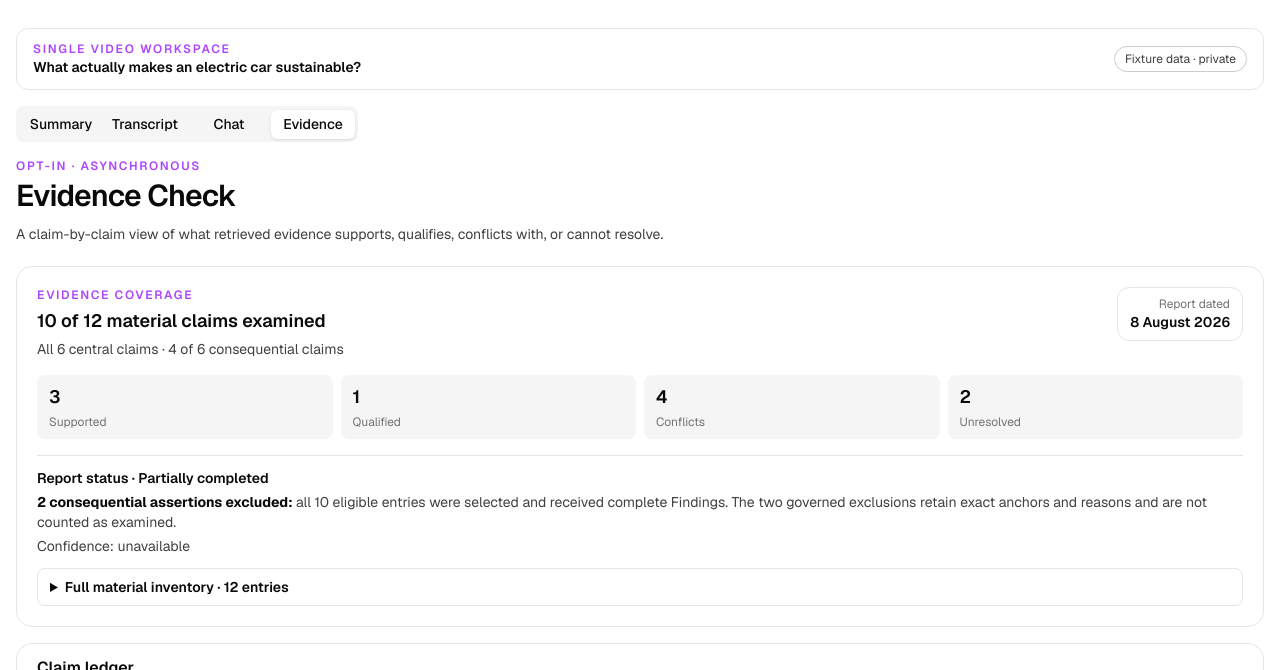
it: EvidenceWorkspacePrototype › reconciles every Finding and governed exclusion to the 12-entry inventory
What coordinates should you click on to do the following:
click the heading "Full material inventory · 12 entries"
I would click on:
 (177, 587)
Its box is [65,578,289,596].
(page scrolled)
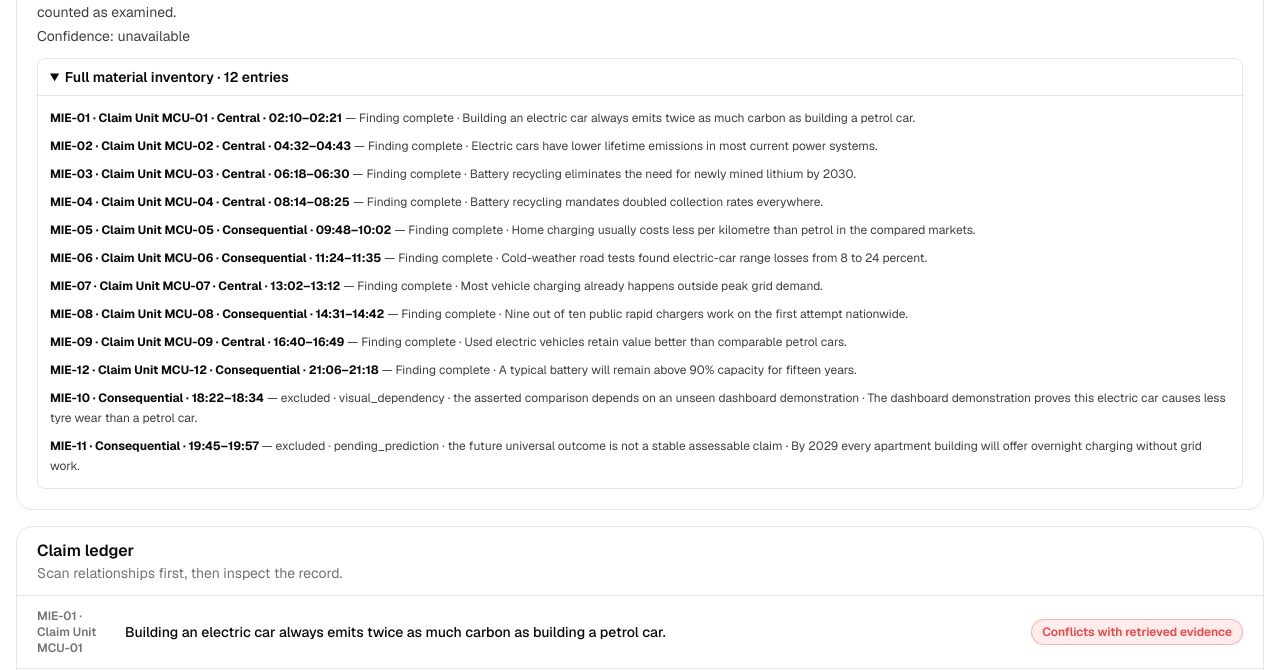
Expected: the number of list items is 12
Expected: the number of list items "— Finding complete ·" is 10
Expected: the list item "visual_dependency" is shown, [281,390,859,406]
